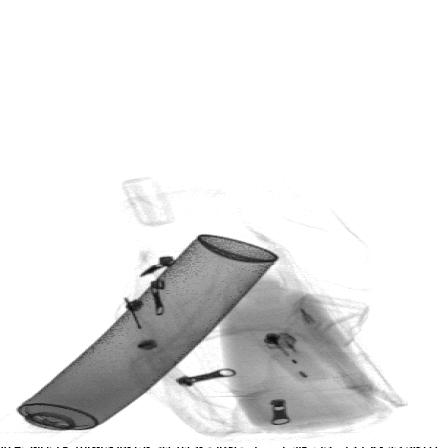Lighter: (252, 327, 330, 383)
Sprayer: (0, 234, 278, 447)
